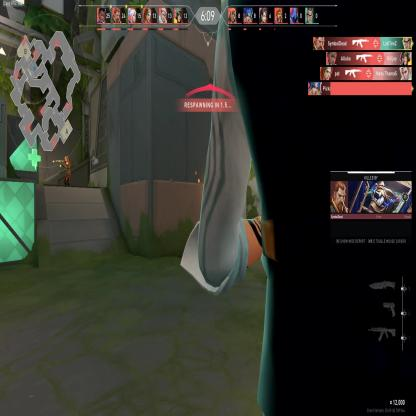enemy: (62, 154, 71, 186)
